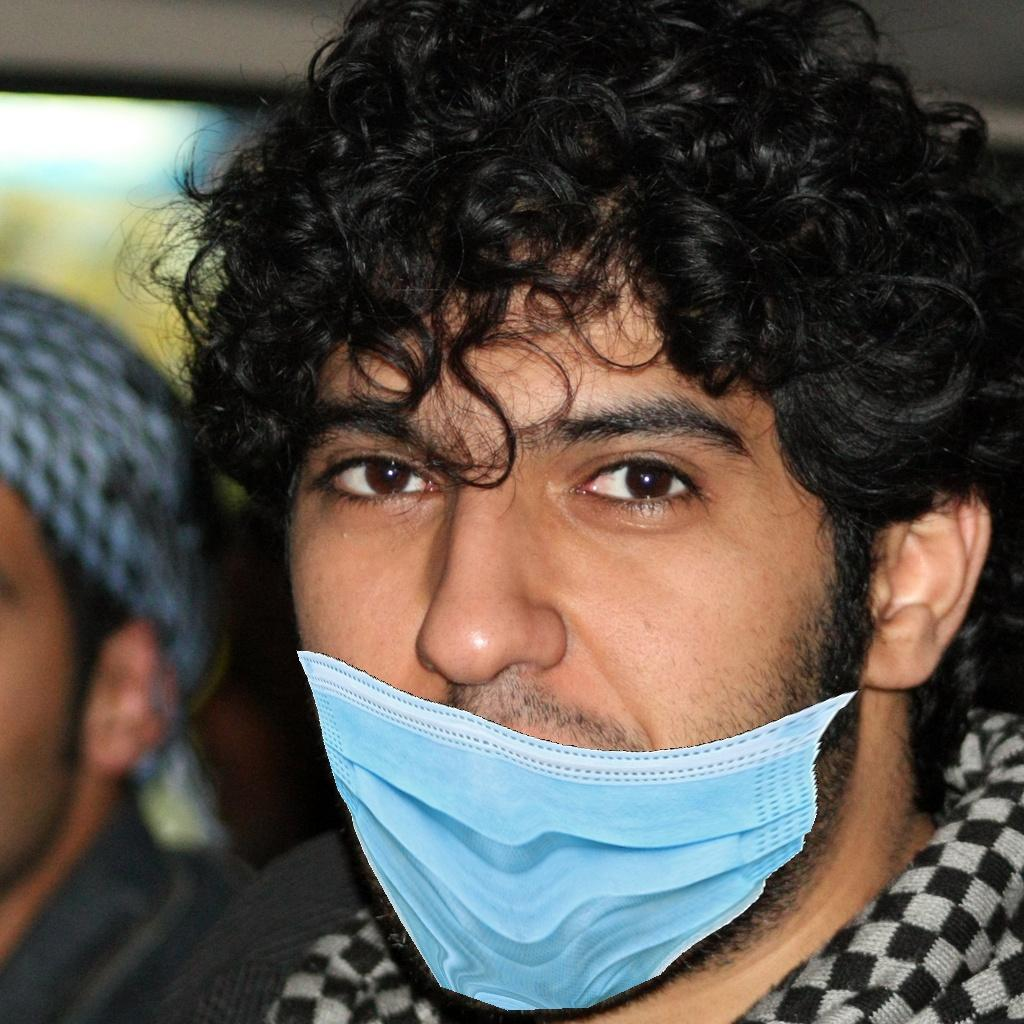Máscara Incorreta: (275, 367, 883, 961)
